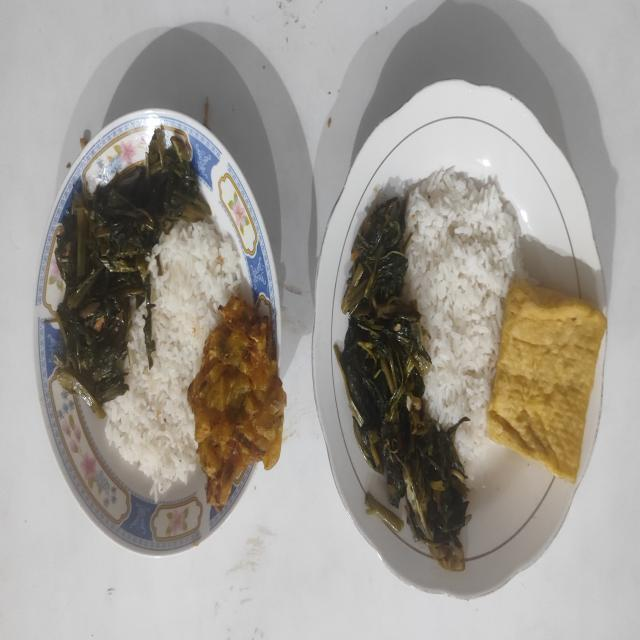nasi_putih: (104, 221, 240, 499), (398, 169, 520, 466)
tahu_goreng: (486, 280, 606, 483)
tumis_kangkung: (334, 198, 470, 569), (55, 128, 211, 412)
